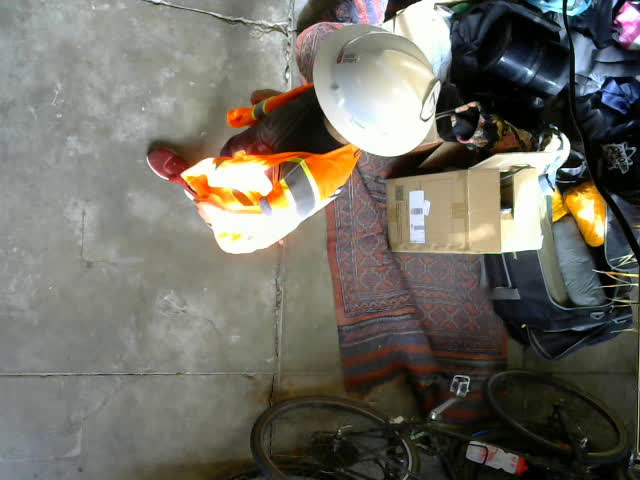one: (420, 80, 441, 121)
